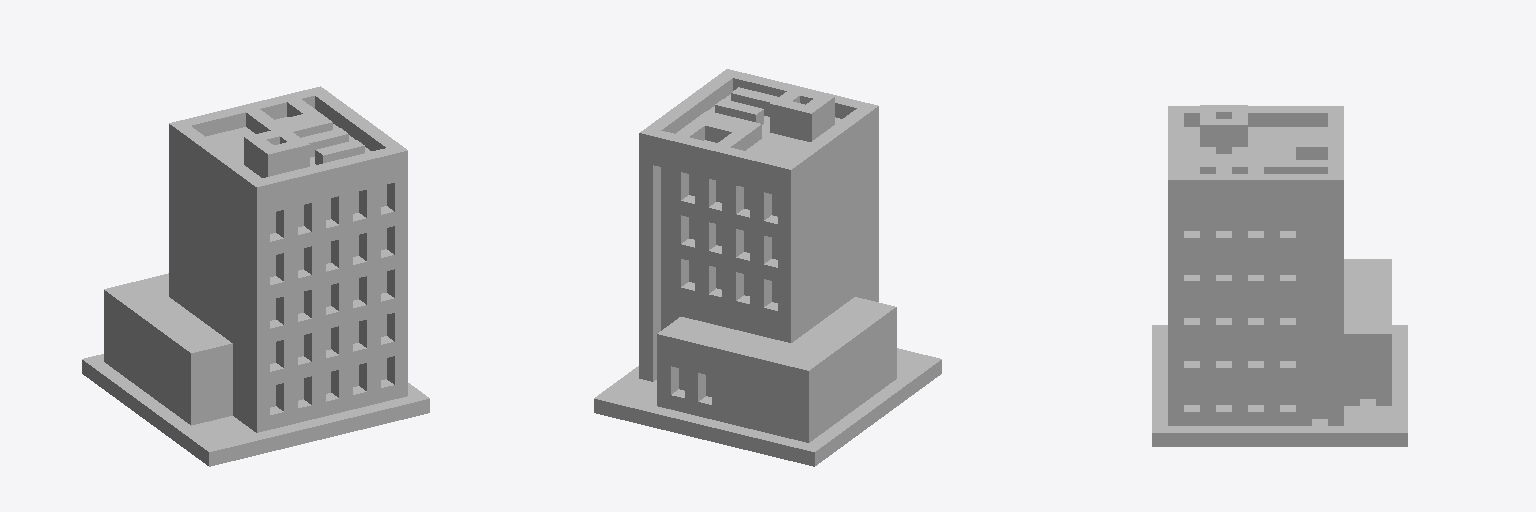
File: House4.obj
The picture shows the model from 3 angles: view 1: azimuth 30°, elevation 25°; view 2: azimuth 150°, elevation 25°; view 3: azimuth 270°, elevation 25°; orthographic projection.
Size of the model in its own units: 16 by 19 by 16.